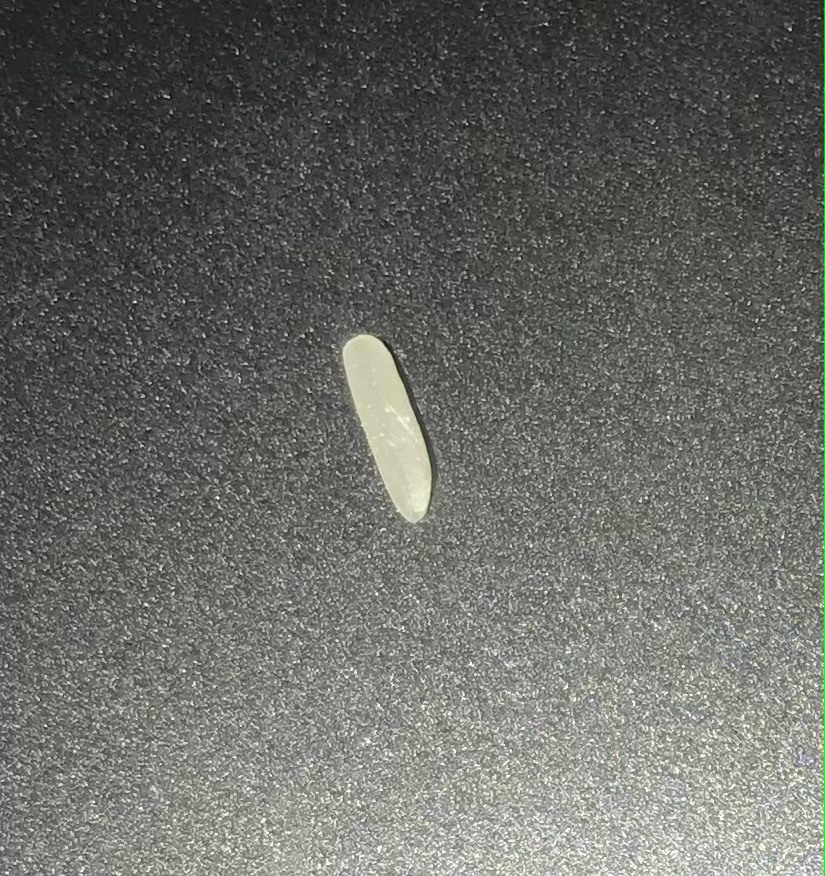Gao Tam Thom: (324, 321, 462, 547)
